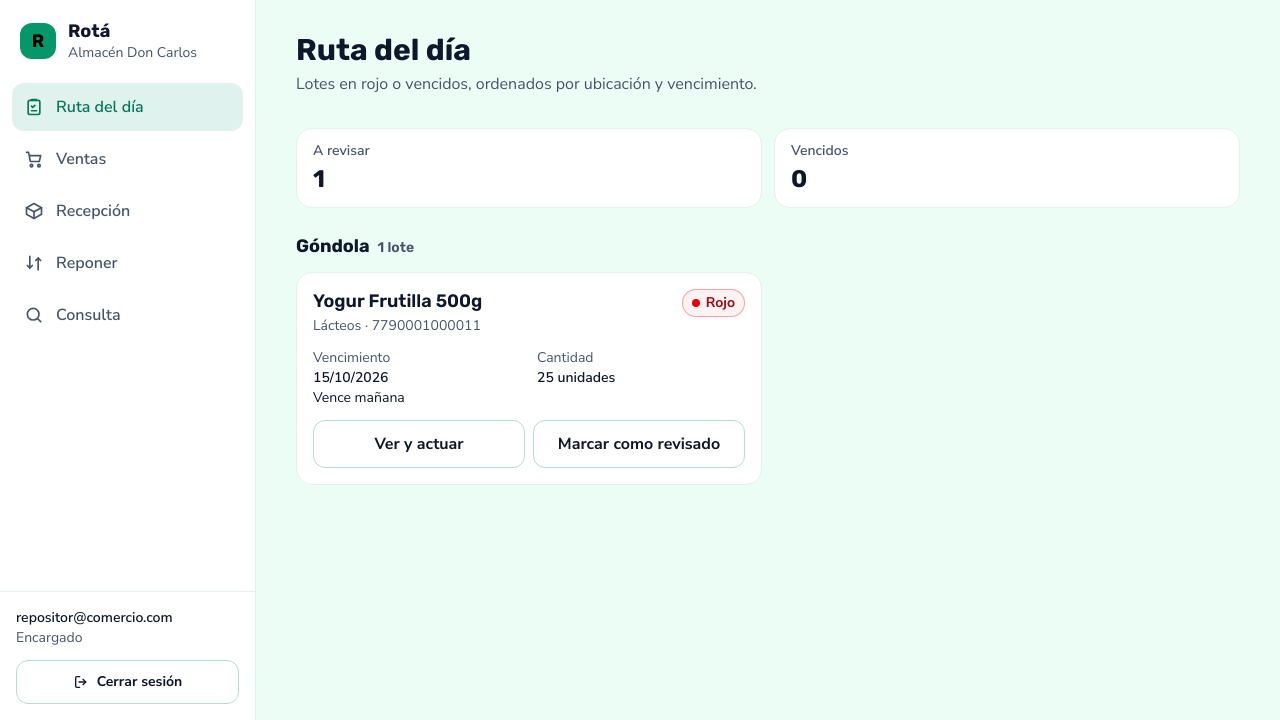
Ruta del día › si otro usuario ya lo revisó hoy (409) avisa quién y no deja reintentar (HU-16)
The image size is (1280, 720).
Expected: the text "Yogur Frutilla 500g" is shown, [313,289,482,314]
Click the button "Marcar como revisado" at (639, 444), box [533,420,745,468]
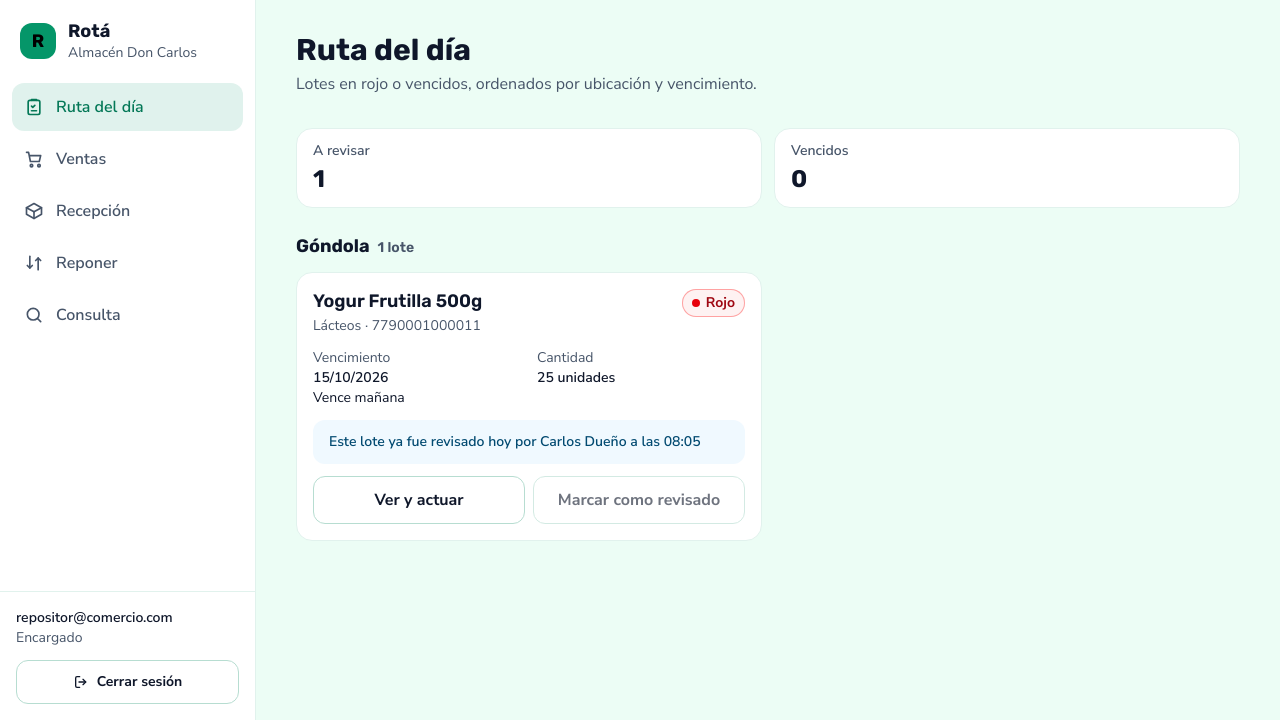
Now the text "Este lote ya fue revisado hoy por Carlos Dueño a las 08:05" is shown, box [313,420,745,464]
Now the button "Marcar como revisado" is disabled, box [533,476,745,524]
